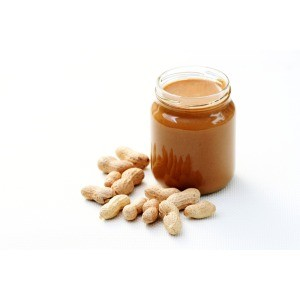peanut butter_brain food: (143, 69, 241, 185)
